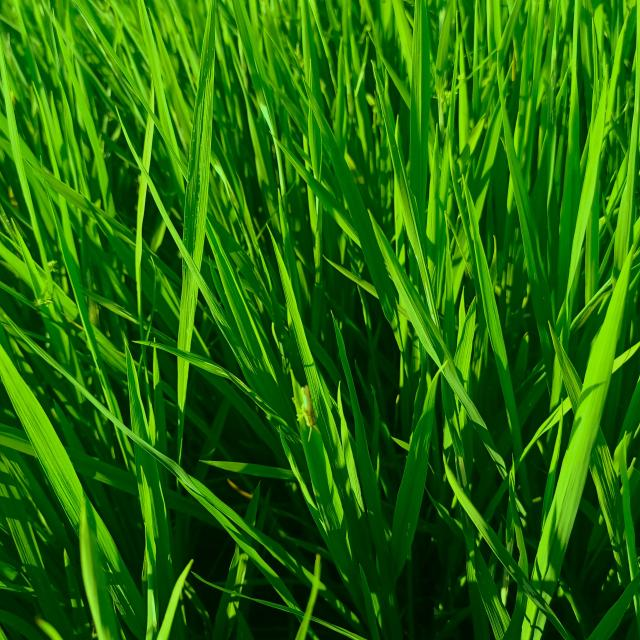belalang pada tanaman padi: (285, 366, 327, 440)
